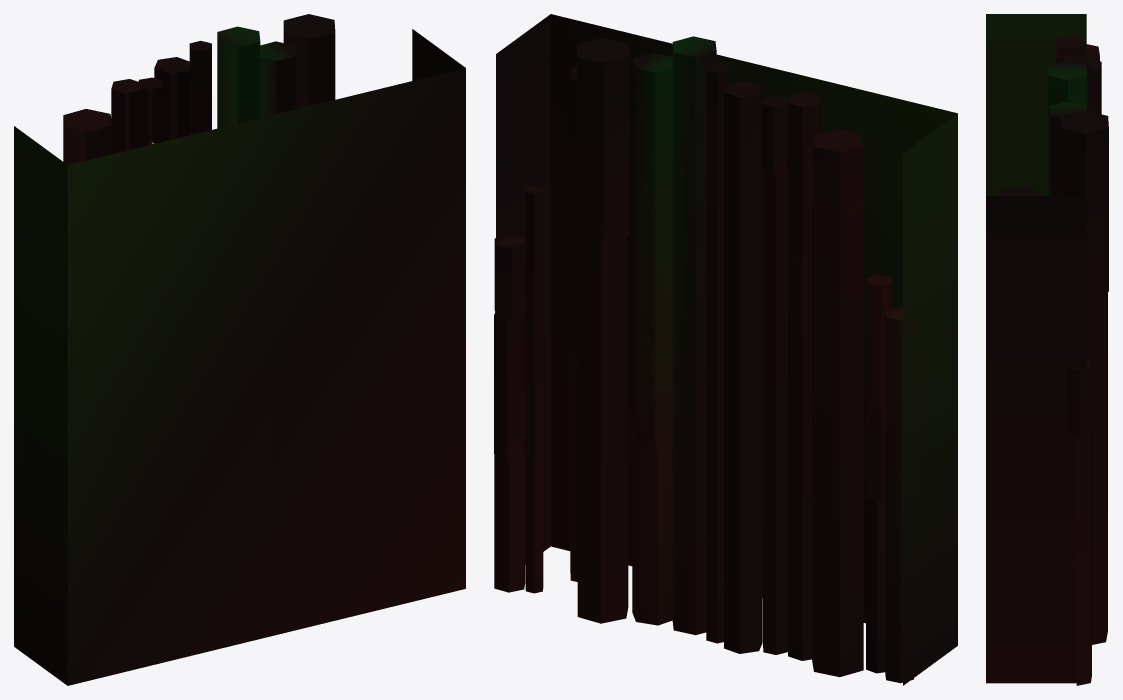
Rendered from tf_basalt_columns_l_15m.glb.
The picture shows the model from 3 angles, left to right: view 1: azimuth 30°, elevation 25°; view 2: azimuth 150°, elevation 25°; view 3: azimuth 270°, elevation 25°; orthographic projection. The views are drawn at different scales.
Parts seen in each view (by area): view 1: tf_basalt_columns_l_15m; view 2: tf_basalt_columns_l_15m; view 3: tf_basalt_columns_l_15m.
Boxes of the visible parts, left/top/right/bottom form: tf_basalt_columns_l_15m: left=14, top=14, right=465, bottom=685; tf_basalt_columns_l_15m: left=494, top=14, right=957, bottom=685; tf_basalt_columns_l_15m: left=986, top=14, right=1108, bottom=685.
Size of what is drawn, in the model's own units: 12.22 by 16.28 by 3.42.
